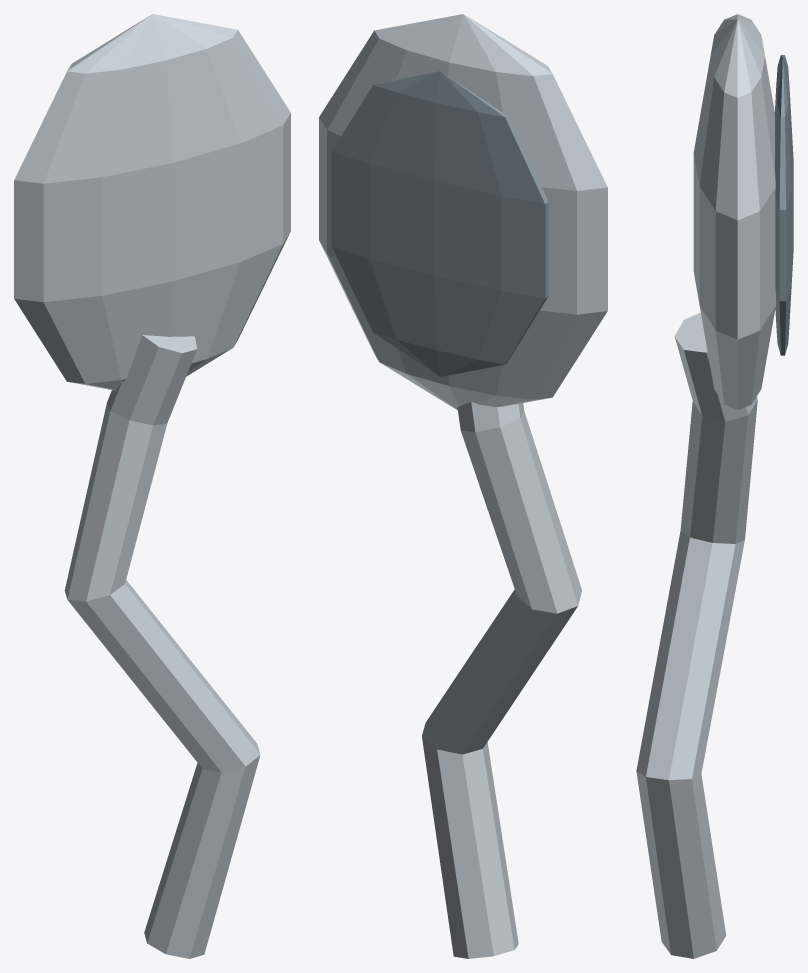
File: homing.glb
The picture shows the model from 3 angles, left to right: view 1: azimuth 30°, elevation 25°; view 2: azimuth 150°, elevation 25°; view 3: azimuth 270°, elevation 25°; orthographic projection. The views are drawn at different scales.
Visible parts, largest first — view 1: homing; view 2: homing; view 3: homing.
Part boxes in pixels (x1,y1,x2,y2): homing: (14,14,290,958); homing: (319,14,607,958); homing: (636,14,793,958).
Size of the model in its own units: 0.2642 by 0.84 by 0.1292.
